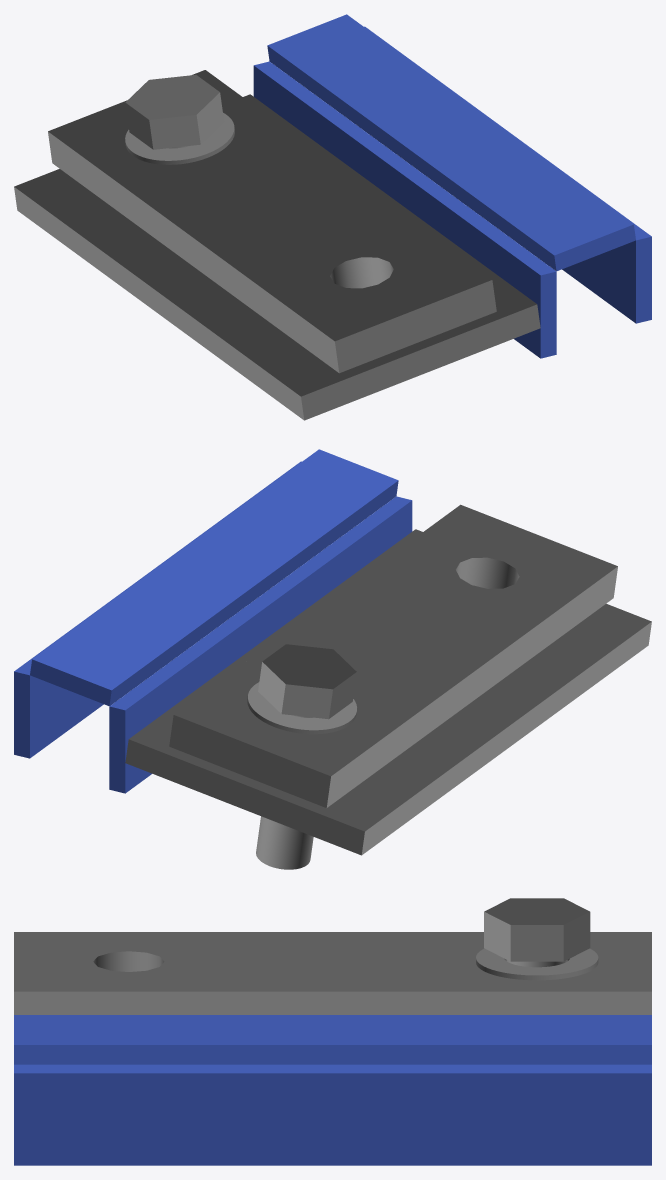
File: M2321ou3ntUnitBeamRafterTruss.fbx
The picture shows the model from 3 angles, top to bottom: view 1: azimuth 30°, elevation 25°; view 2: azimuth 150°, elevation 25°; view 3: azimuth 270°, elevation 25°; orthographic projection. The views are drawn at different scales.
Visible parts, largest first — view 1: FlangePipe_Truss_30х30_Clone_, FlangePipe_Вeam_Truss_30х30_Clone_, ShelfTableMount, WallTableMount, Screw_M12x40_GOST_7798_70_Clone_, WallTableMount_Clone_, Washer_12_GOST_11371_78_Clone_; view 2: FlangePipe_Truss_30х30_Clone_, FlangePipe_Вeam_Truss_30х30_Clone_, ShelfTableMount, WallTableMount, Screw_M12x40_GOST_7798_70_Clone_, WallTableMount_Clone_, Washer_12_GOST_11371_78_Clone_; view 3: WallTableMount_Clone_, FlangePipe_Truss_30х30_Clone_, ShelfTableMount, Screw_M12x40_GOST_7798_70_Clone_, Washer_12_GOST_11371_78_Clone_.
Boxes of the visible parts, x1,y1,x2,y2 form: FlangePipe_Truss_30х30_Clone_: (48, 70, 496, 373); FlangePipe_Вeam_Truss_30х30_Clone_: (14, 94, 540, 420); ShelfTableMount: (267, 14, 635, 271); WallTableMount: (253, 61, 556, 358); Screw_M12x40_GOST_7798_70_Clone_: (125, 75, 224, 149); WallTableMount_Clone_: (364, 26, 651, 323); Washer_12_GOST_11371_78_Clone_: (125, 113, 234, 164); FlangePipe_Truss_30х30_Clone_: (169, 504, 617, 808); FlangePipe_Вeam_Truss_30х30_Clone_: (125, 529, 651, 855); ShelfTableMount: (30, 449, 398, 706); WallTableMount: (109, 496, 412, 793); Screw_M12x40_GOST_7798_70_Clone_: (256, 644, 356, 869); WallTableMount_Clone_: (14, 461, 301, 758); Washer_12_GOST_11371_78_Clone_: (247, 682, 356, 734); WallTableMount_Clone_: (14, 1064, 651, 1165); FlangePipe_Truss_30х30_Clone_: (14, 932, 651, 1014); ShelfTableMount: (14, 1015, 651, 1064); Screw_M12x40_GOST_7798_70_Clone_: (484, 898, 590, 967); Washer_12_GOST_11371_78_Clone_: (476, 948, 598, 980).
Size of the model in its own units: 8825 by 4912 by 12500.
